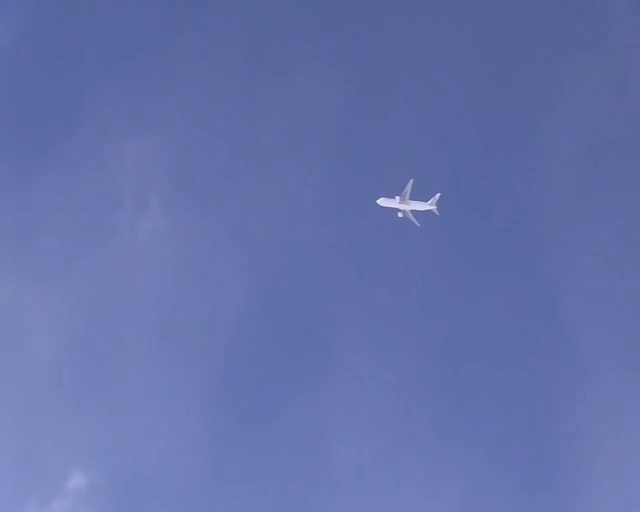AIRPLANE: (376, 177, 441, 226)
